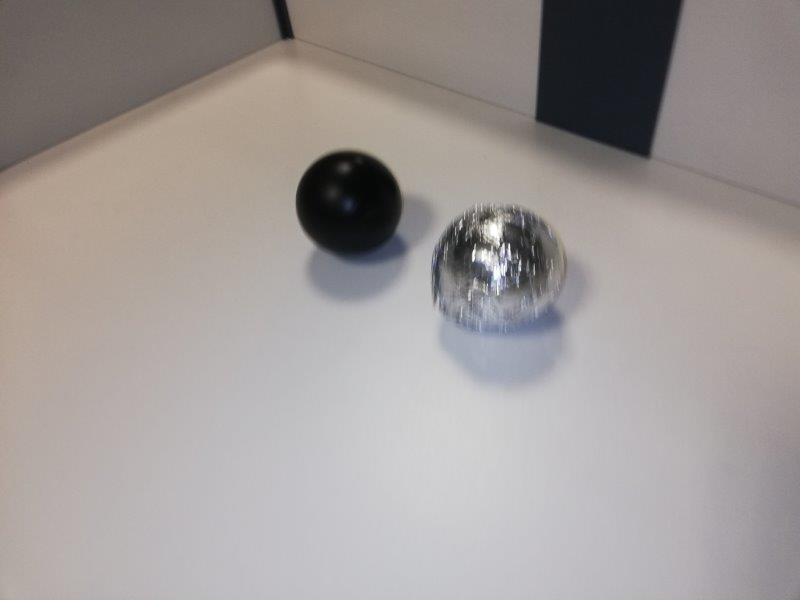bianca: (432, 204, 566, 331)
nera: (295, 149, 402, 253)
